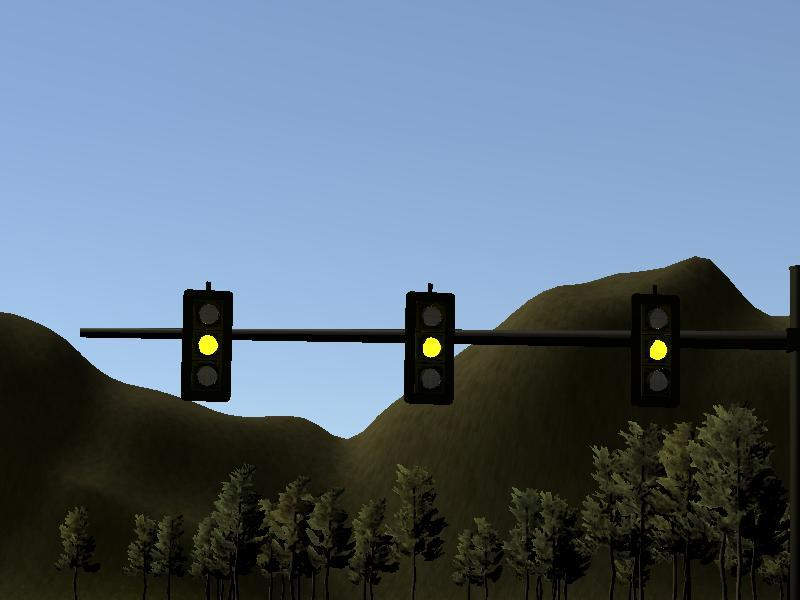Yellow: (630, 294, 682, 406), (182, 289, 232, 402), (405, 292, 455, 404)
